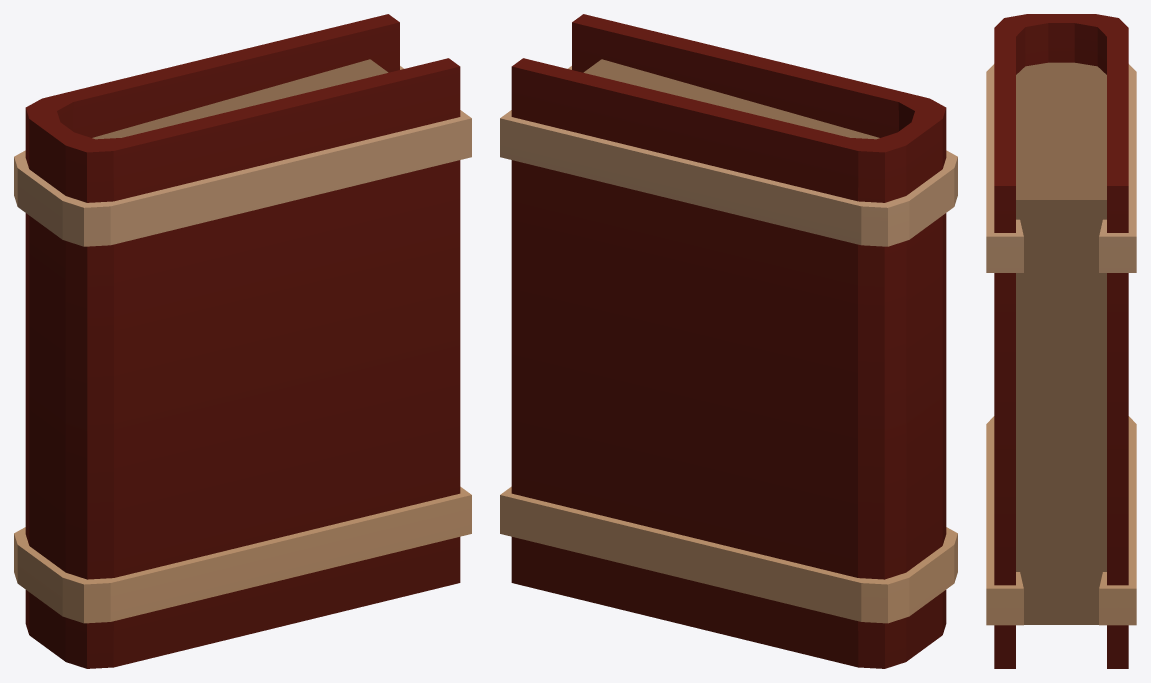
Rendered from ST_Book.fbx.
3 renders of one model, left to right at view 1: azimuth 30°, elevation 25°; view 2: azimuth 150°, elevation 25°; view 3: azimuth 270°, elevation 25°, orthographic. The views are drawn at different scales.
Parts seen in each view (by area): view 1: ST_Book; view 2: ST_Book; view 3: ST_Book.
Part boxes in pixels (<box>): ST_Book: <box>14,14,471,668</box>; ST_Book: <box>500,14,957,668</box>; ST_Book: <box>986,14,1136,668</box>.
Bounding box in the file's own units: 26.94 × 33.94 × 9.56.
